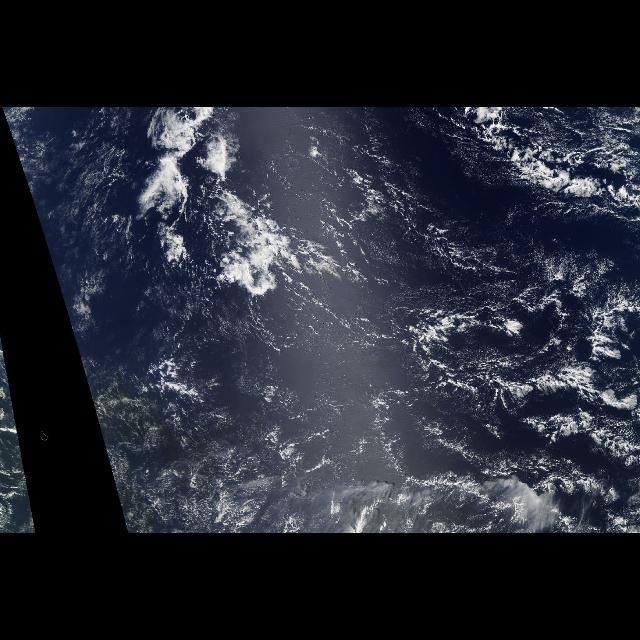Gravel: (500, 235, 640, 461)
